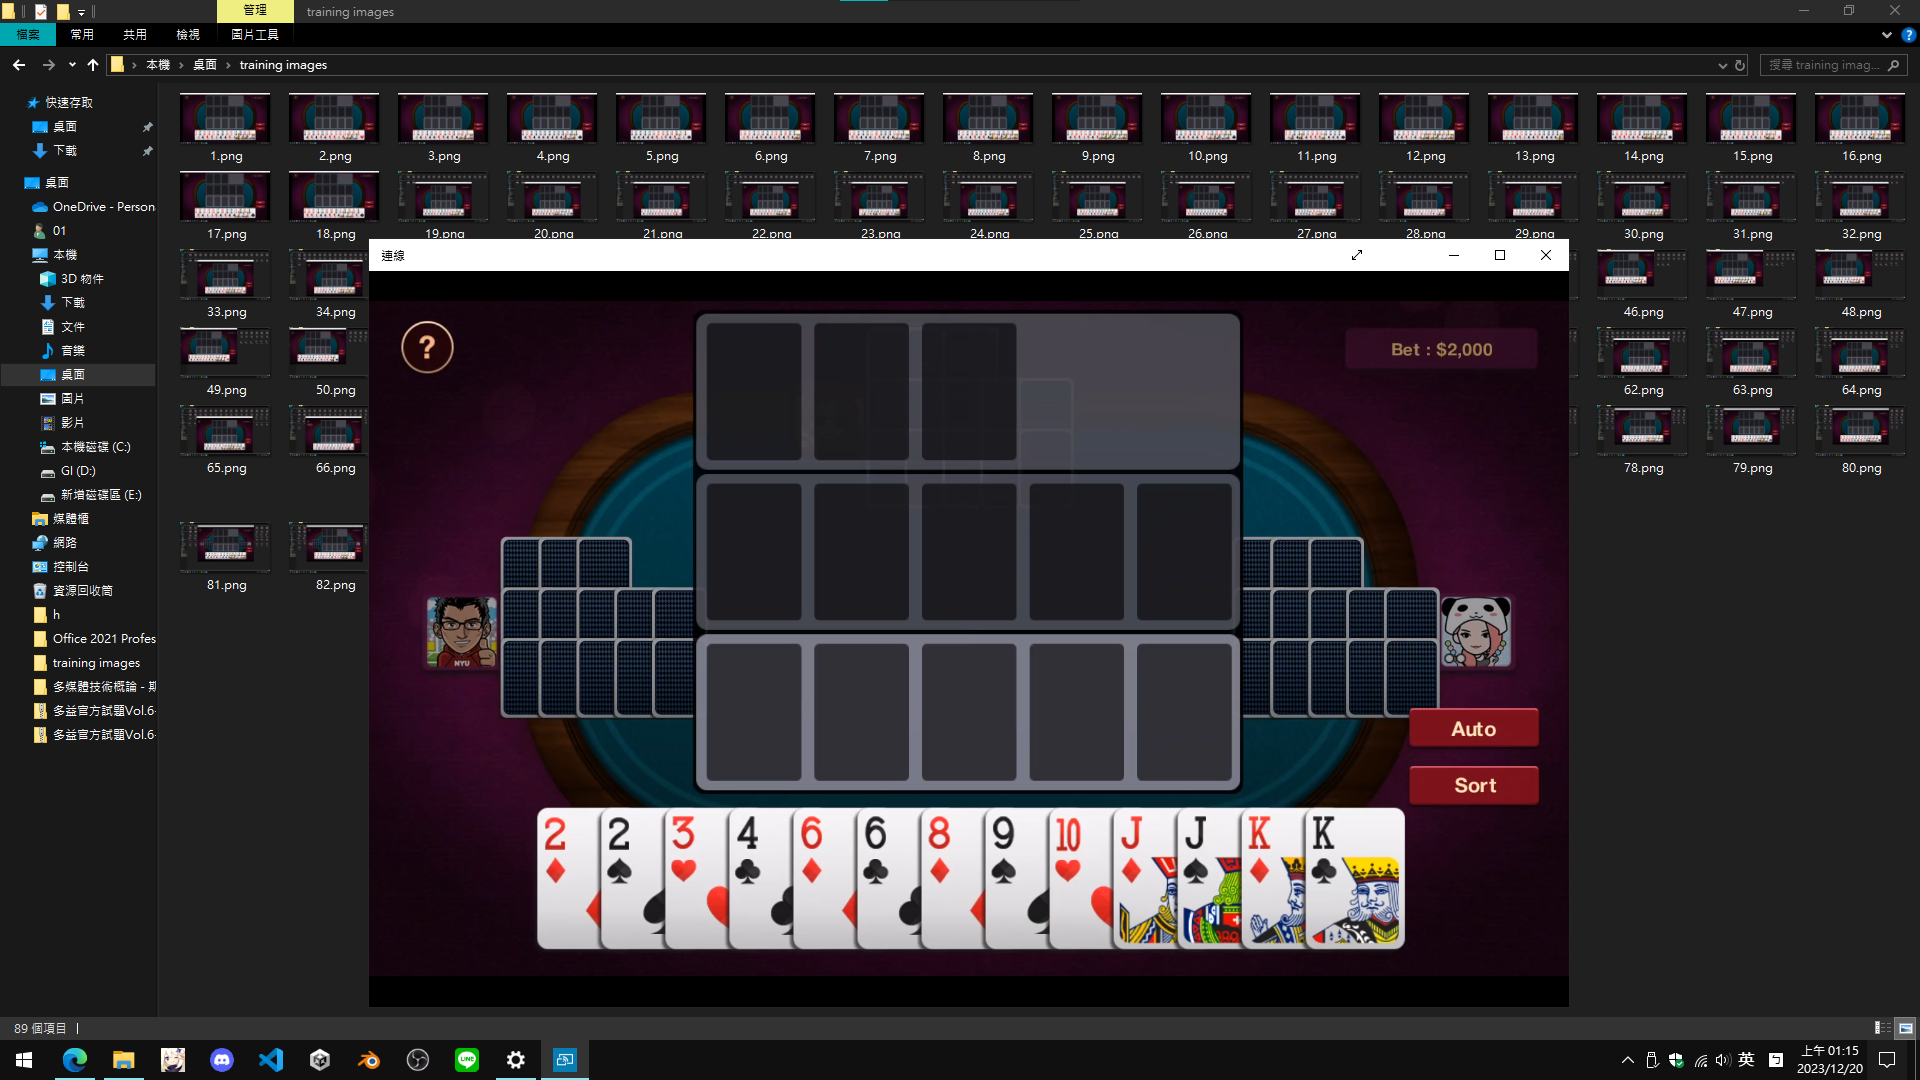10H: (1054, 812, 1084, 885)
2D: (542, 816, 570, 890)
2S: (604, 812, 634, 891)
3H: (670, 814, 699, 885)
4C: (732, 815, 765, 890)
6C: (861, 816, 890, 890)
6D: (798, 815, 825, 889)
8D: (926, 815, 951, 884)
9S: (988, 814, 1018, 890)
JD: (1118, 814, 1145, 886)
JS: (1180, 812, 1212, 893)
KC: (1309, 811, 1340, 891)
KD: (1246, 812, 1273, 889)
